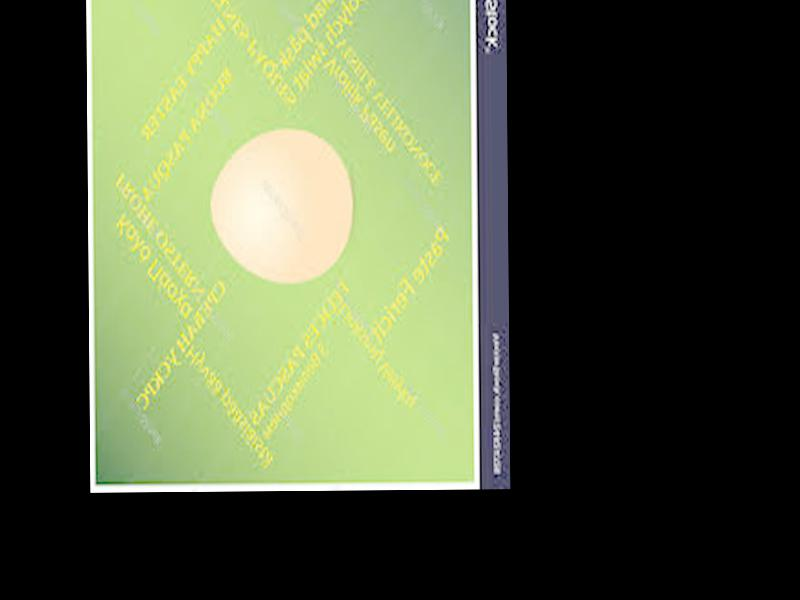Eggs: (213, 130, 352, 284)
